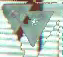Give way: (1, 1, 54, 49)
